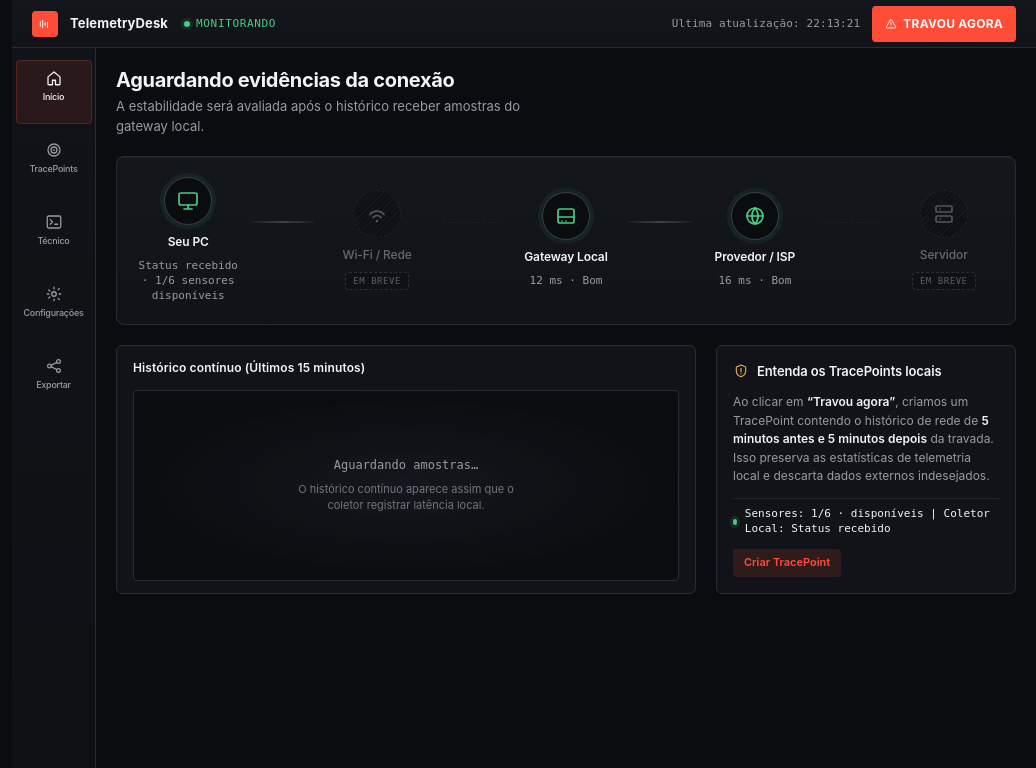
navigates between sections without losing the shell
The image size is (1036, 768).
Click the button "TracePoints".
click(54, 164)  # box top-left (16, 132), bottom-right (92, 196)
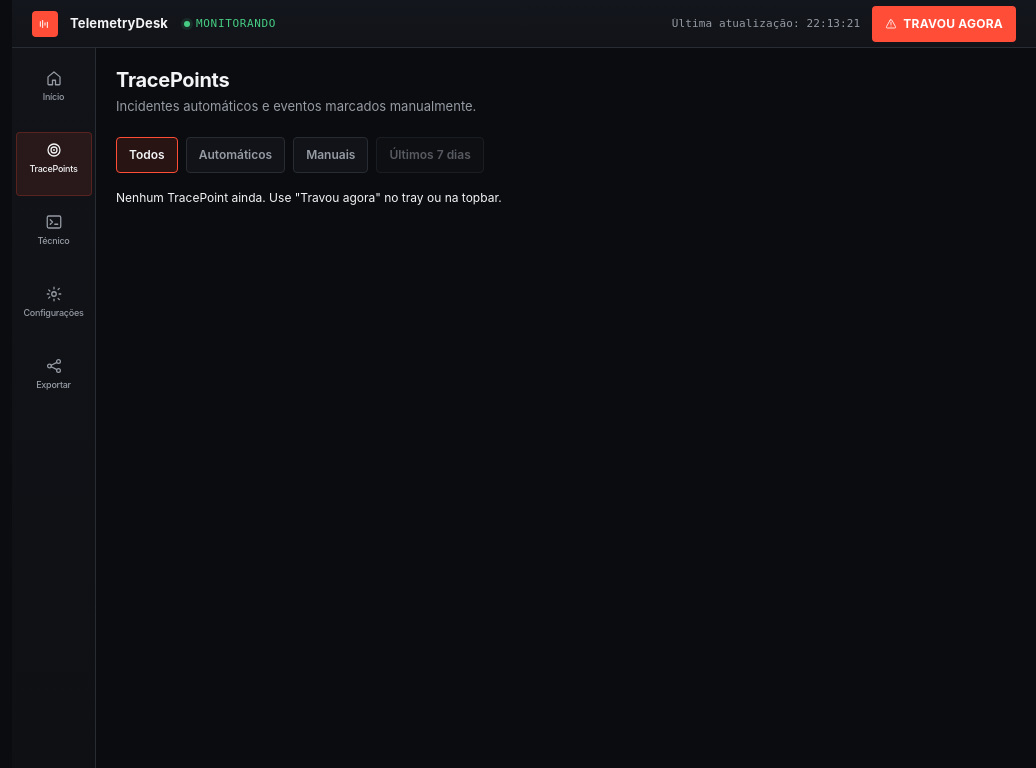
Expected: the heading "TracePoints" is shown, top-left (116, 68), bottom-right (229, 92)
Expected: the navigation bar named "Principal" is shown, top-left (12, 48), bottom-right (96, 767)
Click the button "Exportar".
click(54, 380)  # box top-left (16, 348), bottom-right (92, 412)
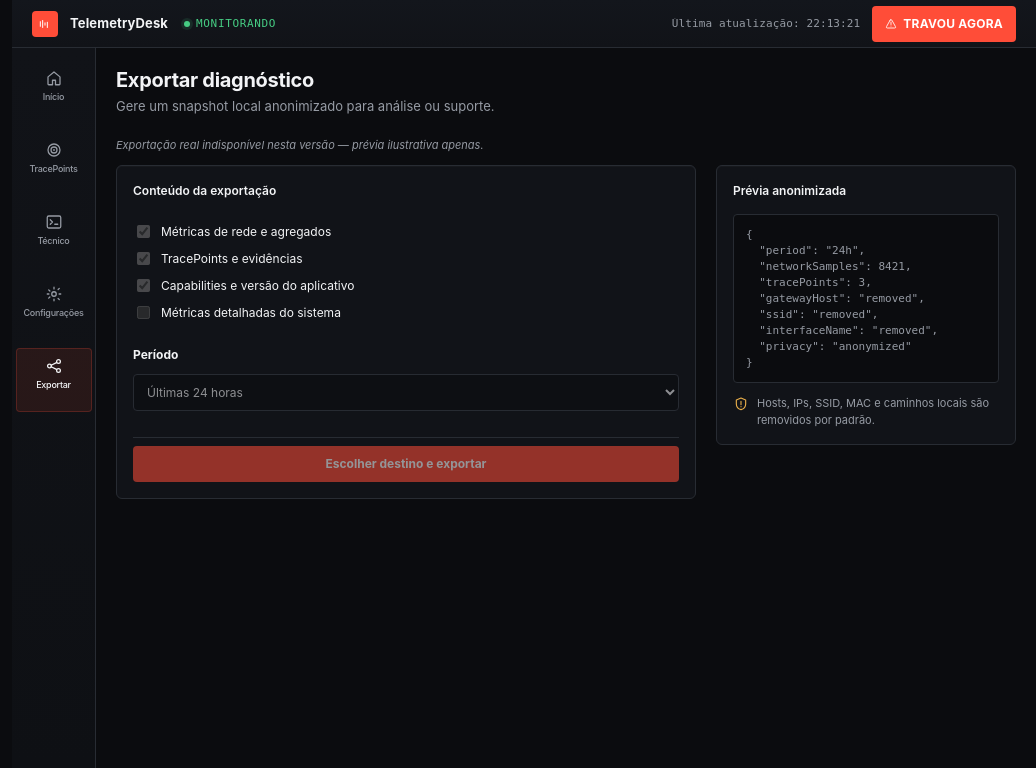
Expected: the heading "Exportar diagnóstico" is shown, top-left (116, 68), bottom-right (314, 92)
